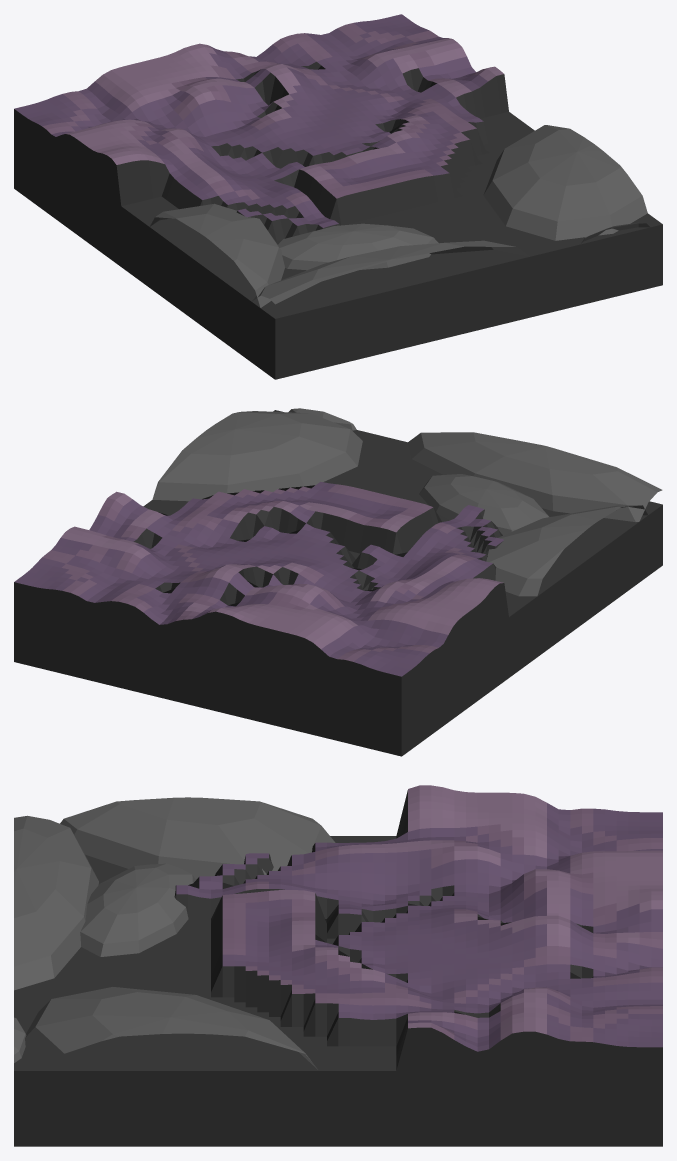
3 views of the same model, one above another, from view 1: azimuth 30°, elevation 25°; view 2: azimuth 150°, elevation 25°; view 3: azimuth 270°, elevation 25° (orthographic). The views are drawn at different scales.
Parts seen in each view (by area): view 1: shapesz-t176; view 2: shapesz-t176; view 3: shapesz-t176.
Part boxes in pixels (x1,y1,x2,y2): shapesz-t176: [14, 14, 662, 379]; shapesz-t176: [14, 408, 662, 756]; shapesz-t176: [14, 785, 662, 1146].
Size of the model in its own units: 2 by 0.5 by 2.33.
